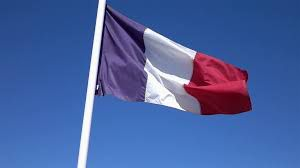French Flag: (101, 6, 250, 116)
